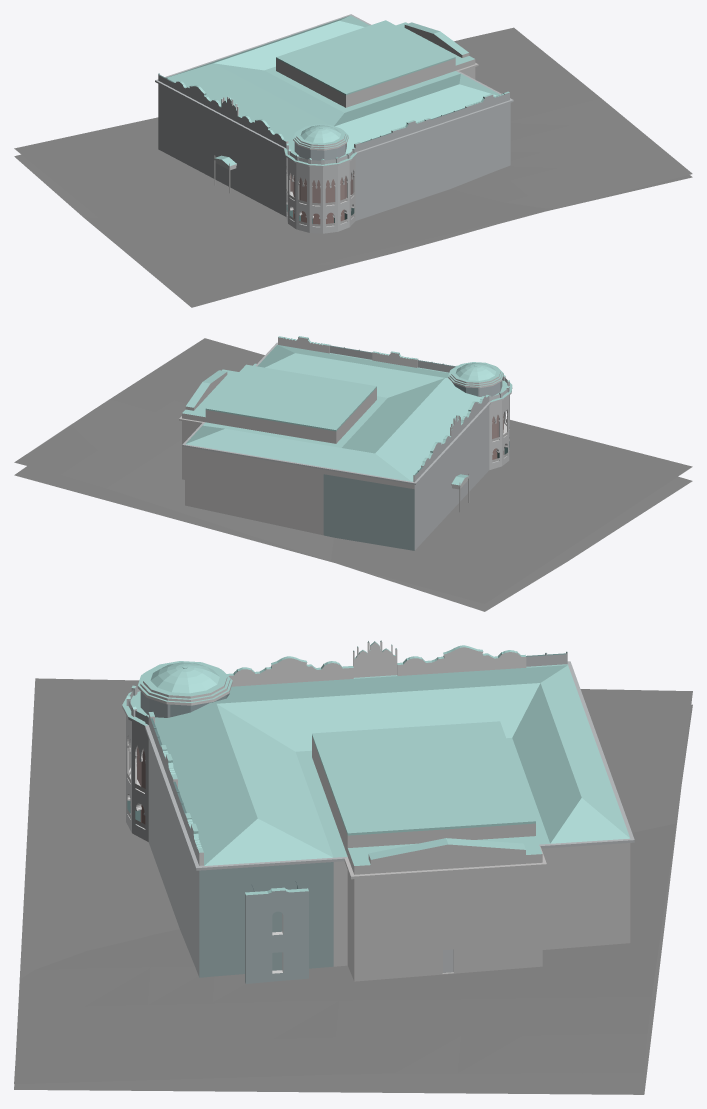
3 renders of one model, top to bottom at view 1: azimuth 30°, elevation 25°; view 2: azimuth 150°, elevation 25°; view 3: azimuth 270°, elevation 25°, orthographic. The views are drawn at different scales.
Visible parts, largest first — view 1: imagetostl_mesh; view 2: imagetostl_mesh; view 3: imagetostl_mesh.
Boxes of the visible parts, box(x1,y1,x2,y2) form: imagetostl_mesh: box(14, 14, 692, 307); imagetostl_mesh: box(14, 336, 692, 611); imagetostl_mesh: box(14, 640, 692, 1094).
Size of the model in its own units: 404951 by 81523 by 279009.
